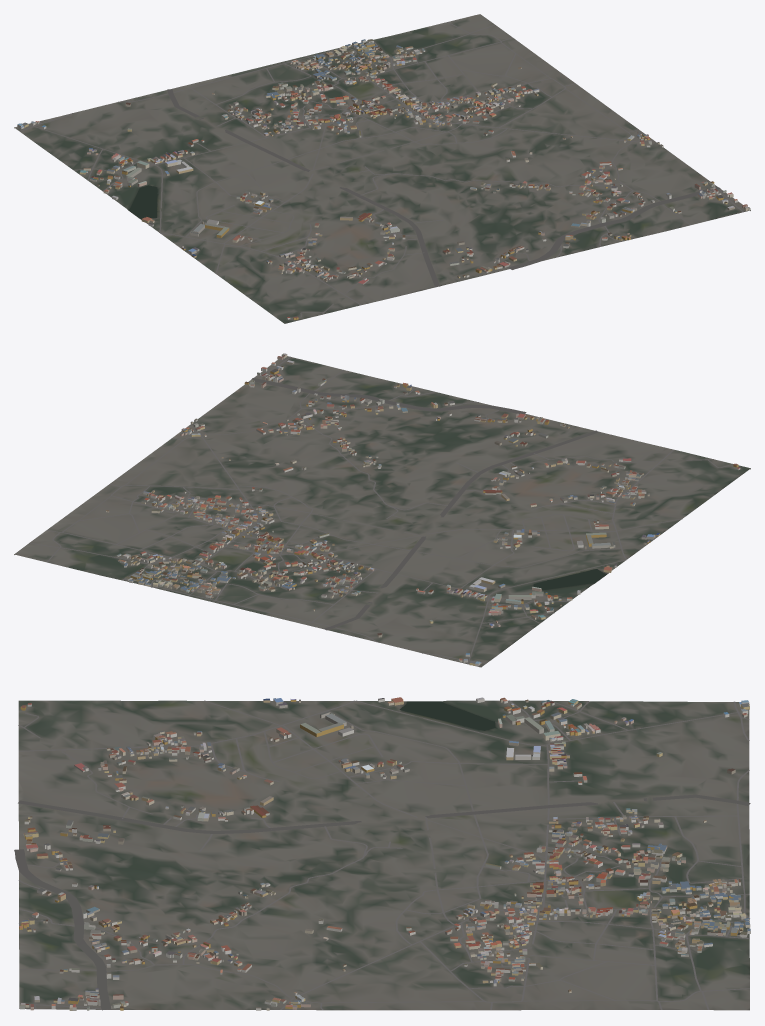
3 views of the same model, one above another, from view 1: azimuth 30°, elevation 25°; view 2: azimuth 150°, elevation 25°; view 3: azimuth 270°, elevation 25° (orthographic). The views are drawn at different scales.
Visible parts, largest first — view 1: ground, buildings, roads, water; view 2: ground, buildings, roads, water; view 3: ground, buildings, roads, water.
Boxes of the visible parts, bbox=[...] form: ground: bbox=[14, 14, 750, 323]; buildings: bbox=[17, 39, 750, 320]; roads: bbox=[19, 22, 743, 317]; water: bbox=[129, 185, 158, 218]; ground: bbox=[14, 356, 750, 667]; buildings: bbox=[106, 353, 740, 666]; roads: bbox=[29, 357, 728, 664]; water: bbox=[533, 569, 606, 590]; ground: bbox=[18, 700, 749, 1010]; buildings: bbox=[19, 697, 750, 1010]; roads: bbox=[14, 700, 750, 1010]; water: bbox=[399, 701, 495, 730].
Bounding box in the file's own units: 1408 × 18.96 × 1414.
